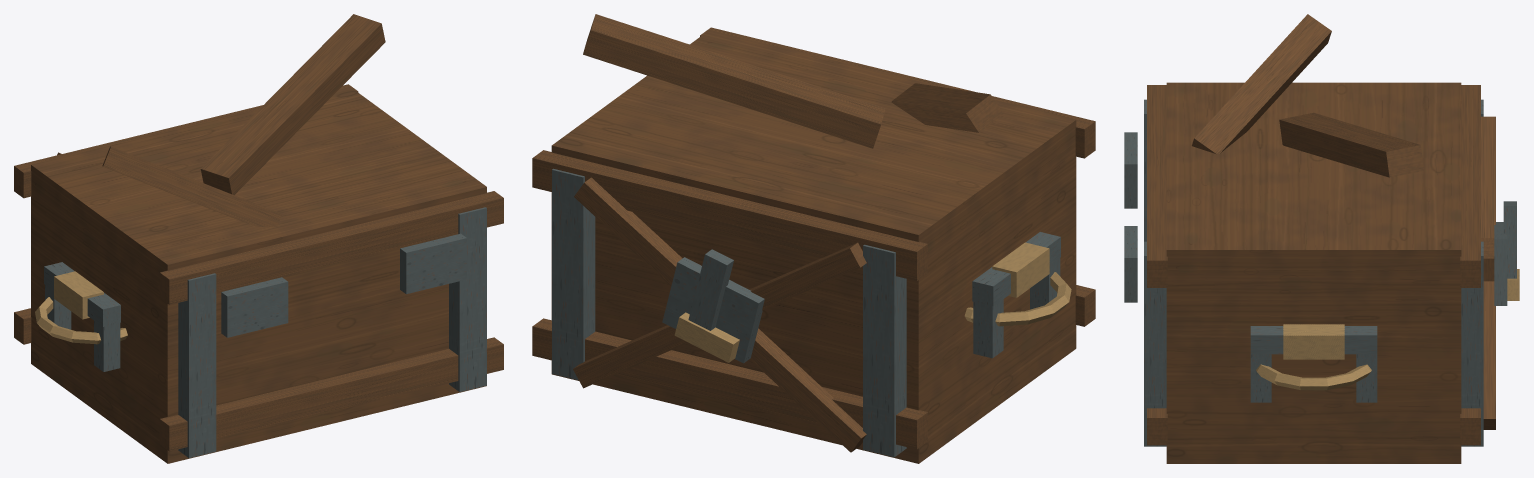
File: pr-004_supply_crate__broken.obj
3 views of the same model, side by side, from view 1: azimuth 30°, elevation 25°; view 2: azimuth 150°, elevation 25°; view 3: azimuth 270°, elevation 25° (orthographic). The views are drawn at different scales.
Visible parts, largest first — view 1: pr-004_supply_crate__broken; view 2: pr-004_supply_crate__broken; view 3: pr-004_supply_crate__broken.
Part boxes in pixels (box(x1,y1,x2,y2)): pr-004_supply_crate__broken: box(14, 14, 503, 463); pr-004_supply_crate__broken: box(532, 14, 1095, 463); pr-004_supply_crate__broken: box(1124, 14, 1519, 463).
Bounding box in the file's own units: 1.42 × 0.9091 × 1.05.
3 materials, 3 textured.
